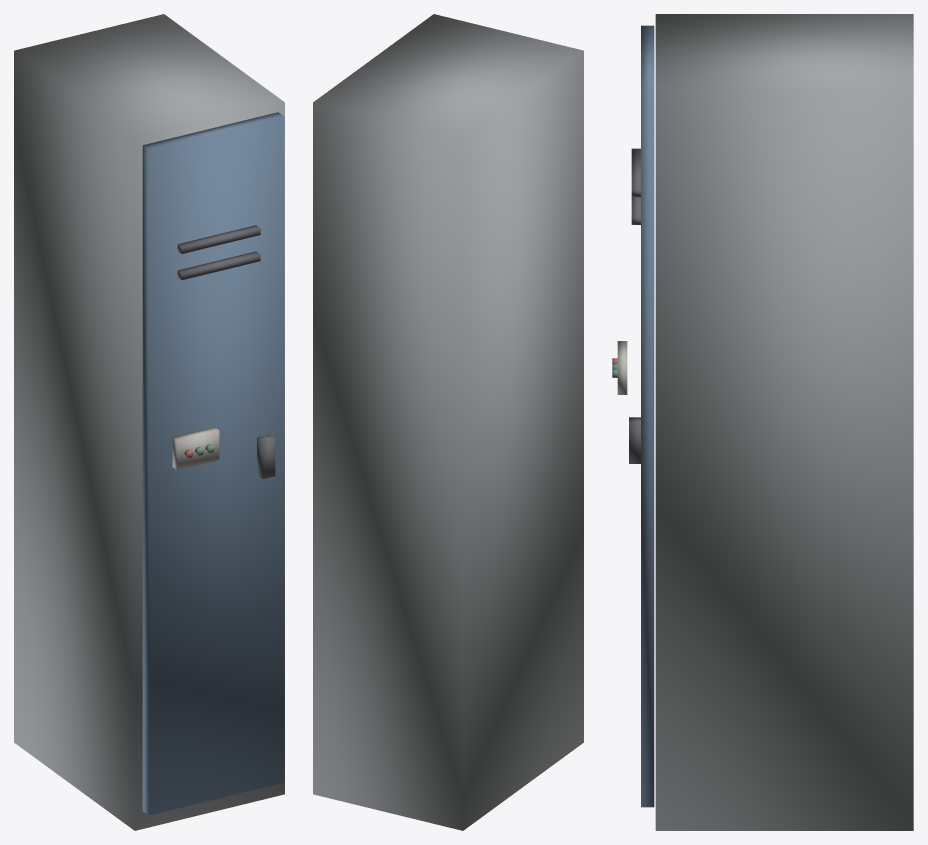
Rendered from single_locker__deep.glb.
3 views of the same model, side by side, from view 1: azimuth 30°, elevation 25°; view 2: azimuth 150°, elevation 25°; view 3: azimuth 270°, elevation 25° (orthographic). The views are drawn at different scales.
Parts seen in each view (by area): view 1: world; view 2: world; view 3: world.
Part boxes in pixels (bbox=[...]): world: bbox=[14, 14, 284, 830]; world: bbox=[313, 14, 583, 830]; world: bbox=[612, 14, 913, 830].
Size of the model in its own units: 0.42 by 1.85 by 0.6844.
